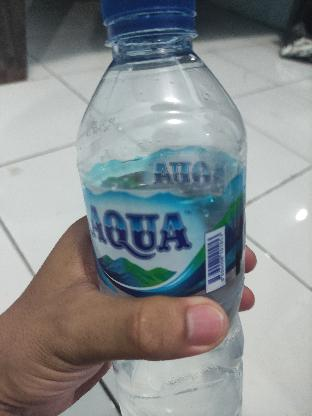Plastic Bottle: (61, 0, 263, 416)
